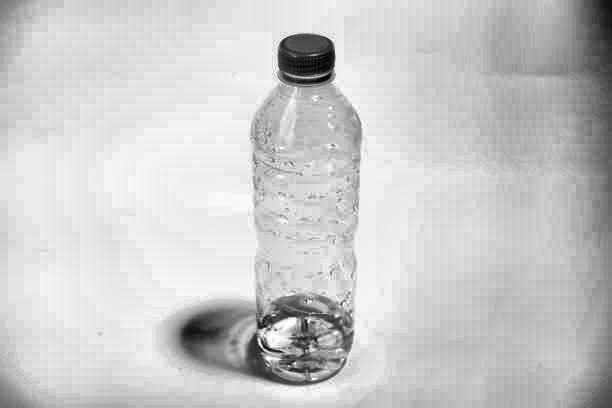waterbottle: (208, 17, 427, 390)
